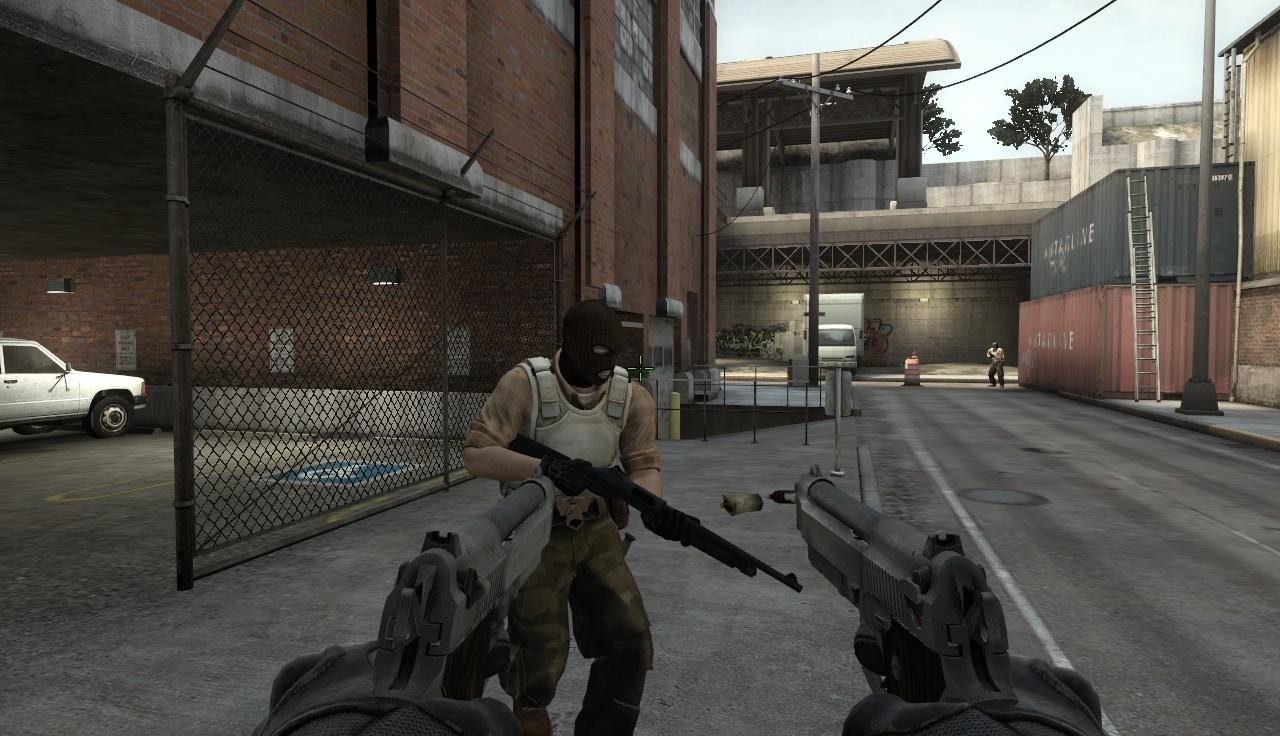pistol: (789, 461, 1111, 736)
tt: (481, 300, 662, 736), (989, 342, 1004, 388)
tthead: (560, 302, 622, 382), (992, 343, 998, 350)
